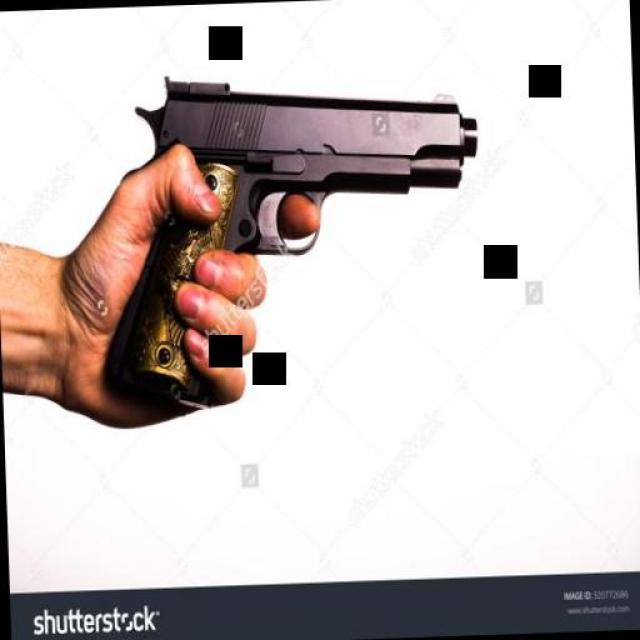gun: (96, 60, 485, 408)
